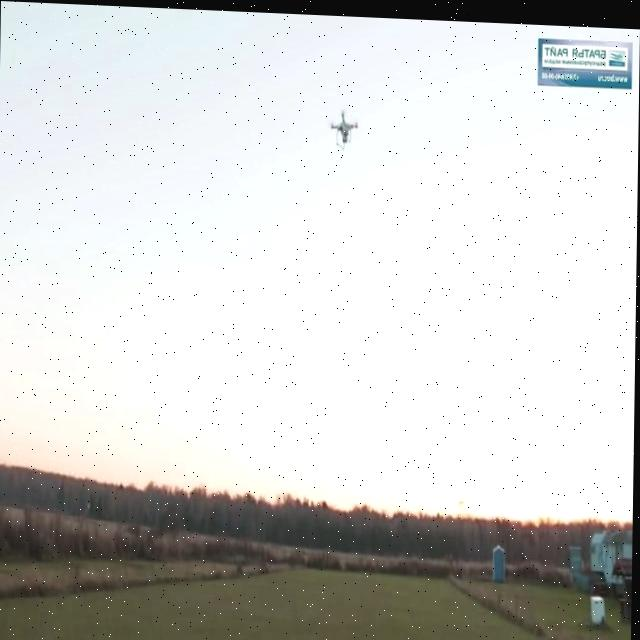drone: (327, 102, 358, 148)
